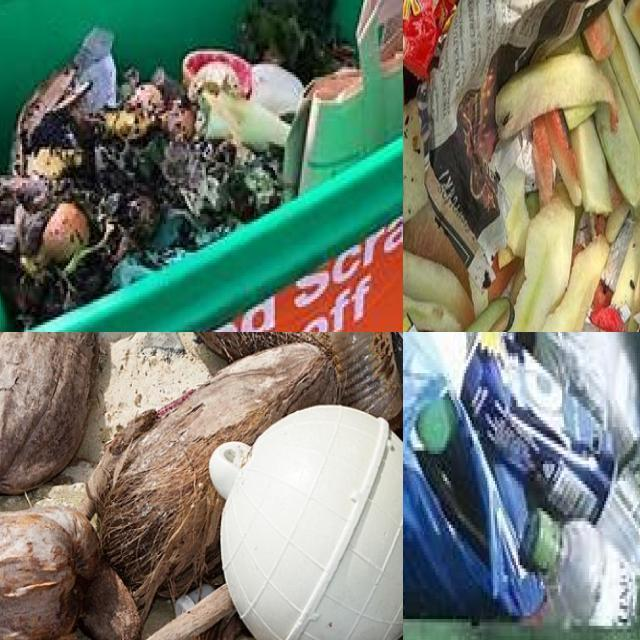Garbage: (0, 332, 403, 640), (403, 0, 640, 332), (403, 332, 640, 626)
Plastic: (210, 405, 403, 640), (74, 27, 116, 114)
Plastic_Bag: (403, 332, 544, 616), (285, 0, 403, 197), (237, 0, 357, 84), (250, 63, 304, 116)
Plastic_bottle: (527, 447, 640, 626), (329, 332, 403, 429)
Tetrapack: (462, 332, 612, 521)
